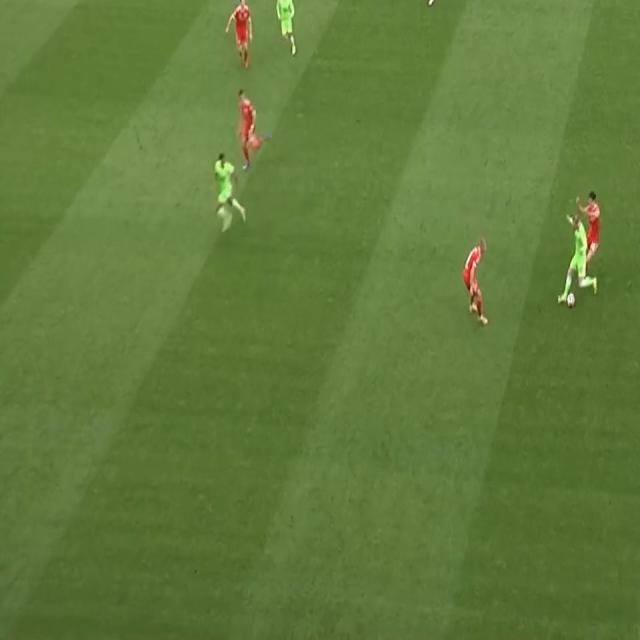ball: (566, 290, 576, 308)
